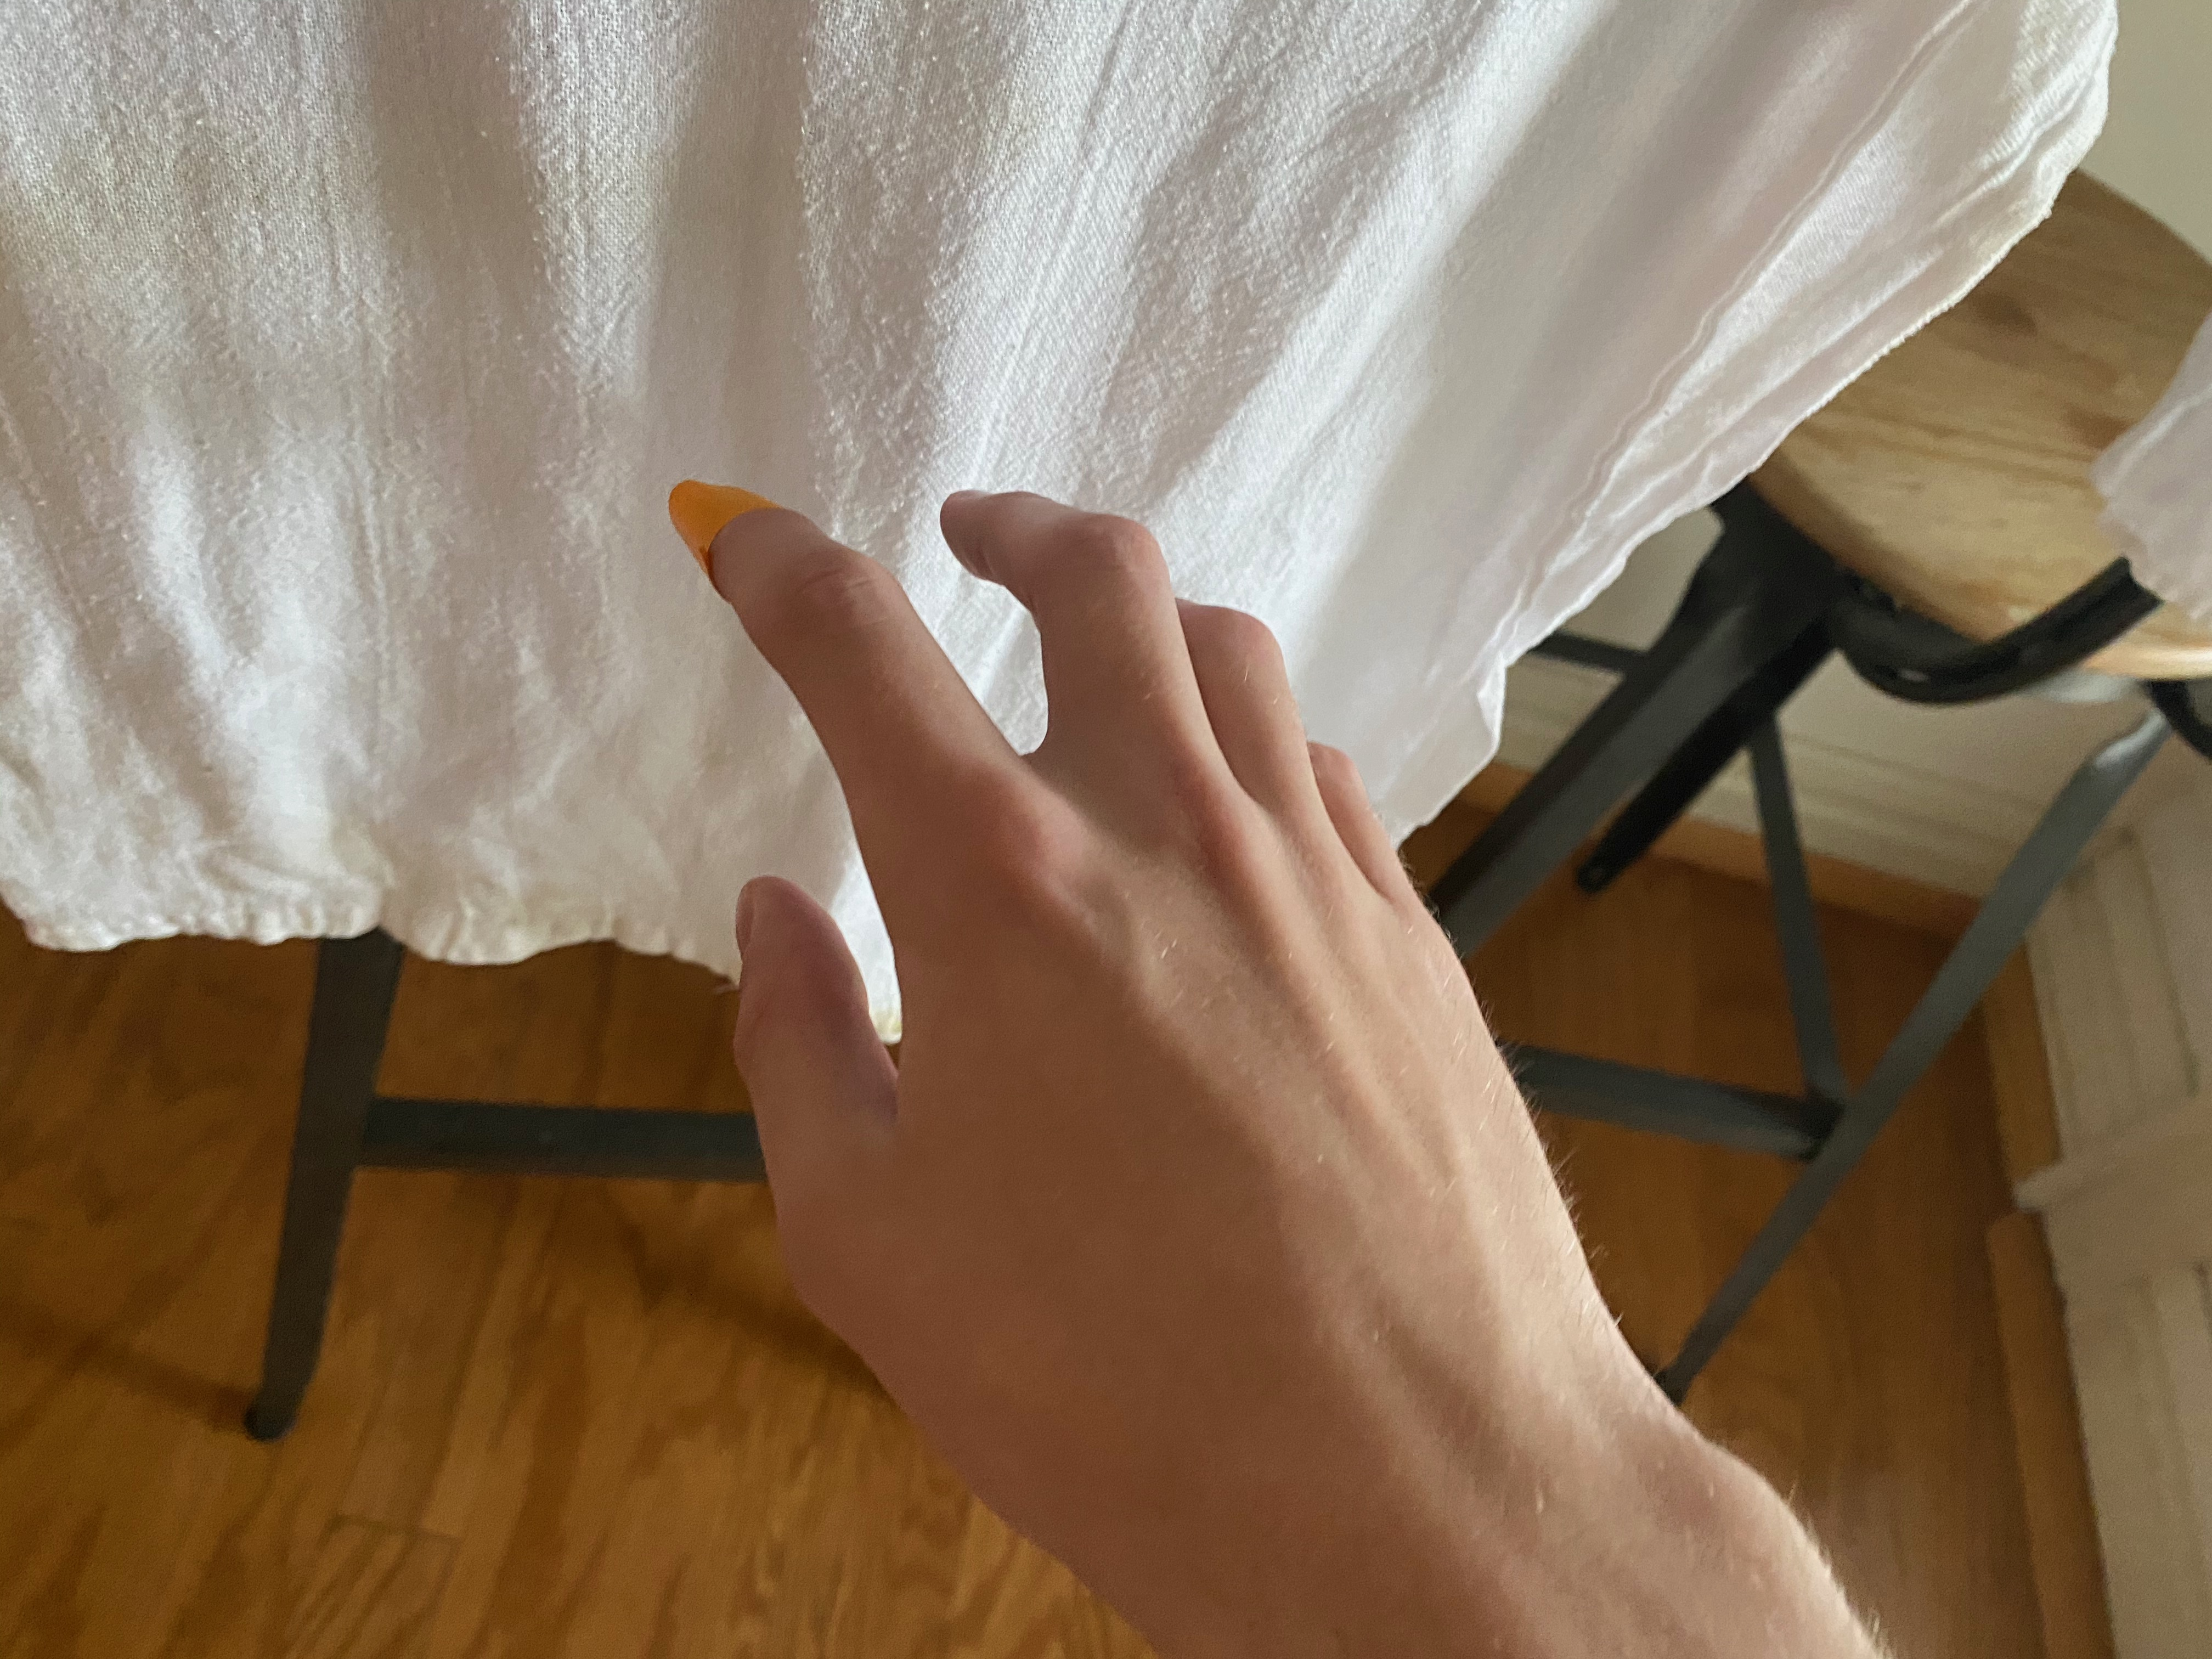fingertip: (651, 467, 796, 570)
